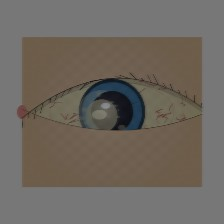corneal_ulcer: (74, 94, 129, 138)
